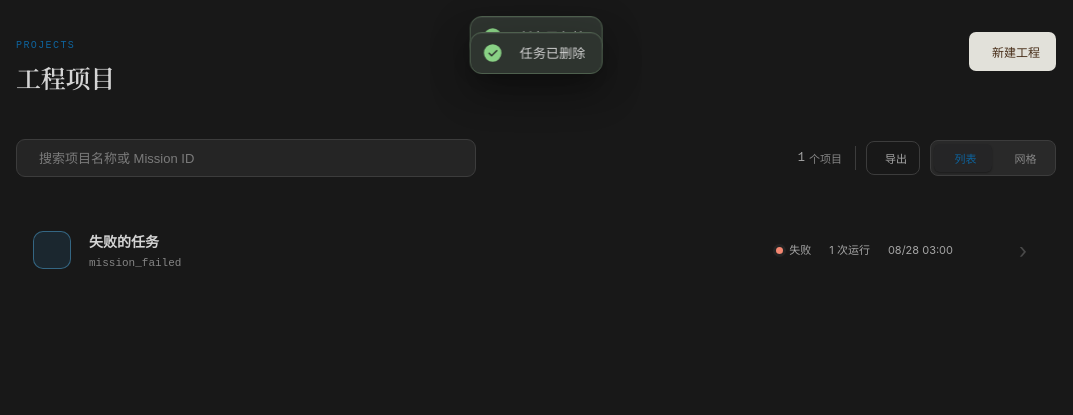
Scenario: ProjectListView › allows deletion when a failed Mission only exposes its terminal mission status
Right-click the button "失败的任务 mission_failed 失败 1 次运行 08/28 03:00 ›" at [52, 250], box x1=33 y1=231 x2=1027 y2=269
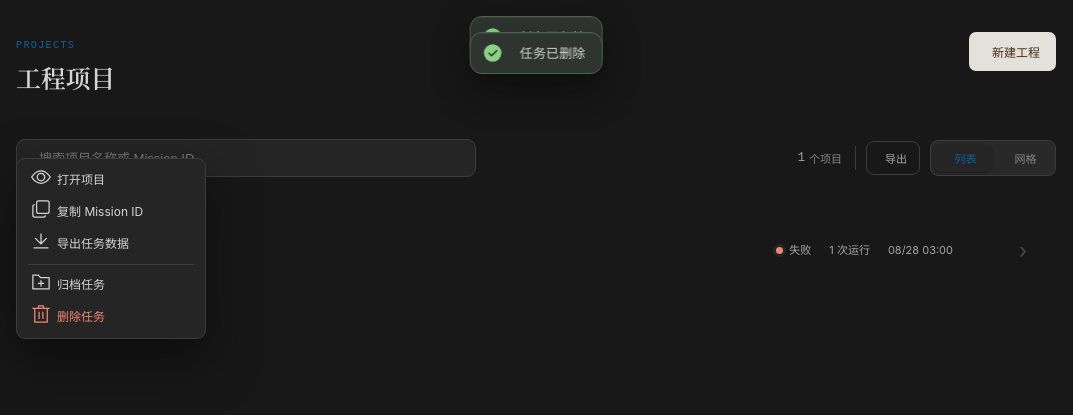
Check: the menu item "删除任务" is enabled
Click the menu item "删除任务" at [111, 317], box x1=22 y1=301 x2=200 y2=333
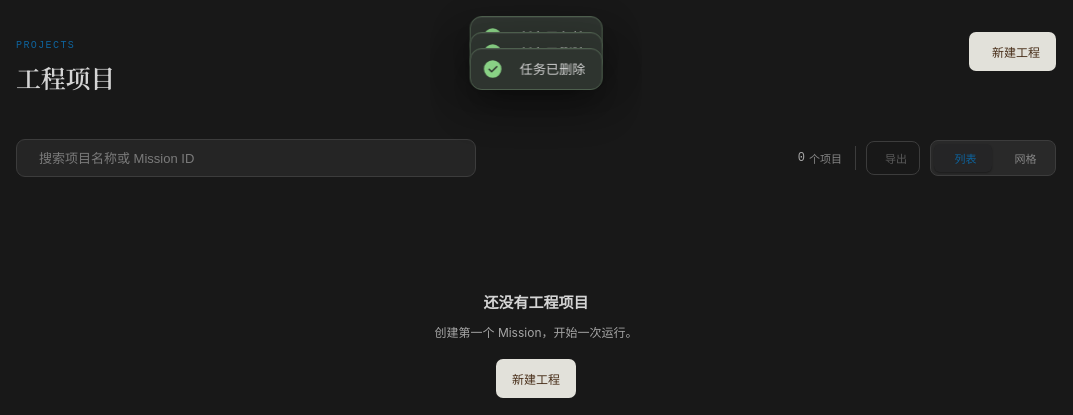
Check: no buttons are shown
